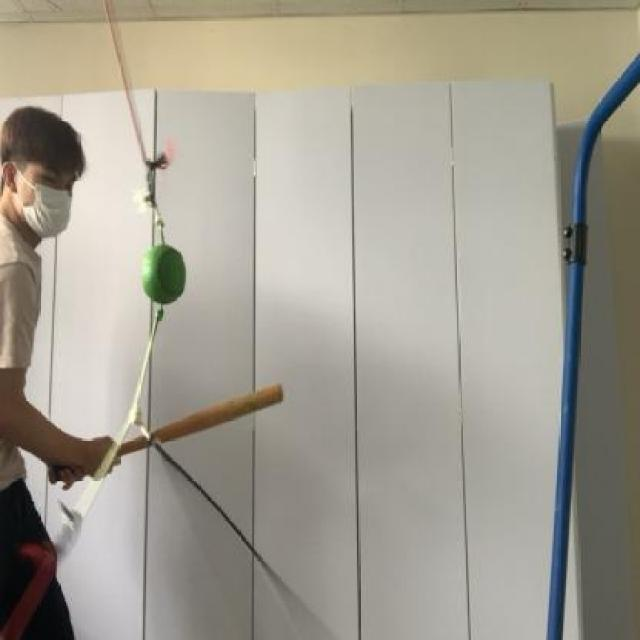baseball: (128, 230, 190, 310)
